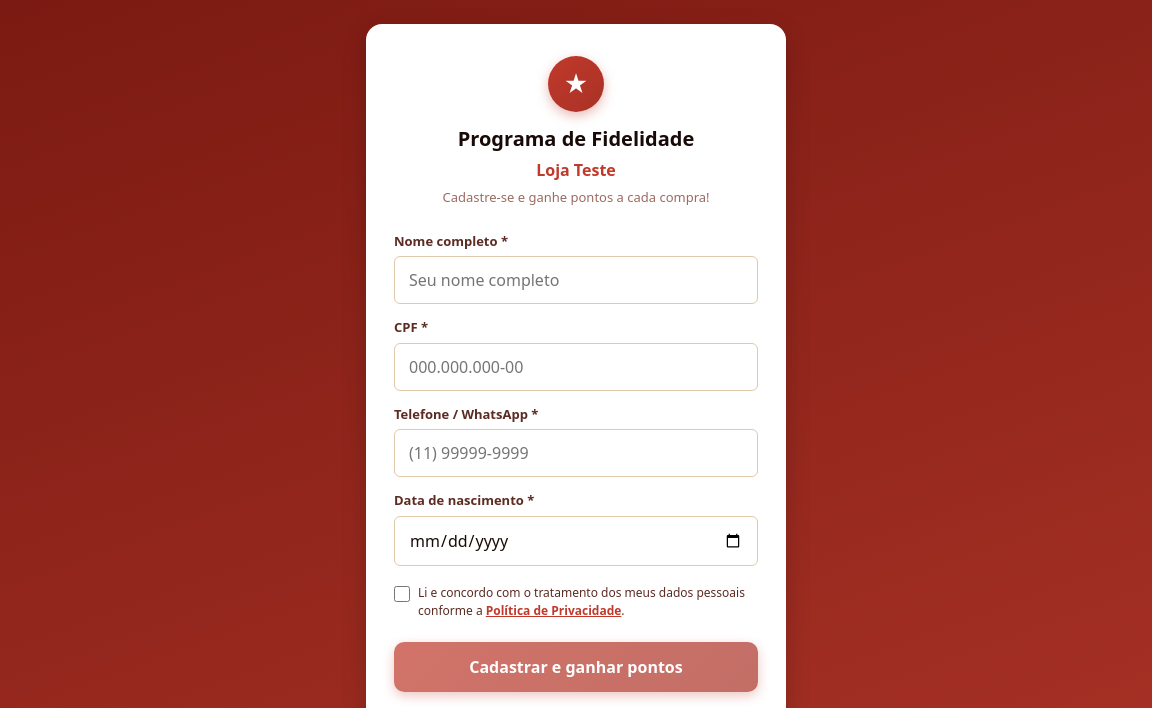
Test: CustomerRegisterView › keeps the submit button disabled until consent is given (LGPD Art. 7, I)
Type "João da Silva" into the field with placeholder "Seu nome completo".
click(576, 280); type("João da Silva")  # box [394,256,758,304]
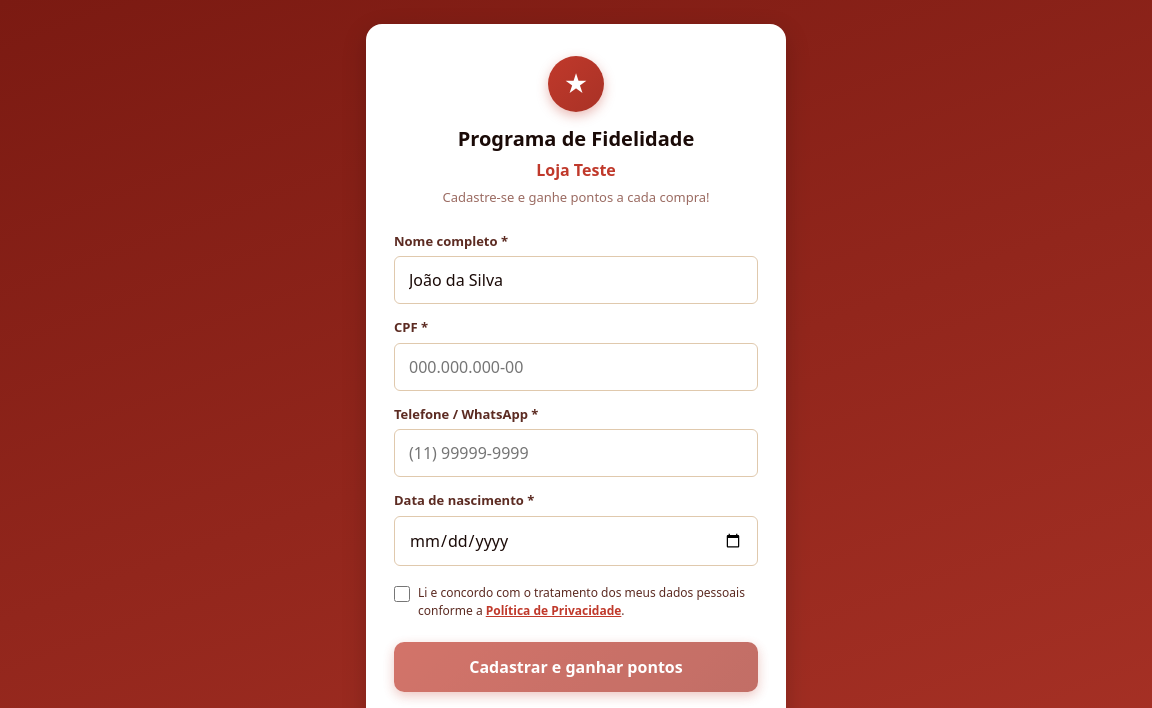
Type "52998224725" into the field with placeholder "000.000.000-00".
click(576, 366); type("52998224725")  # box [394,342,758,390]
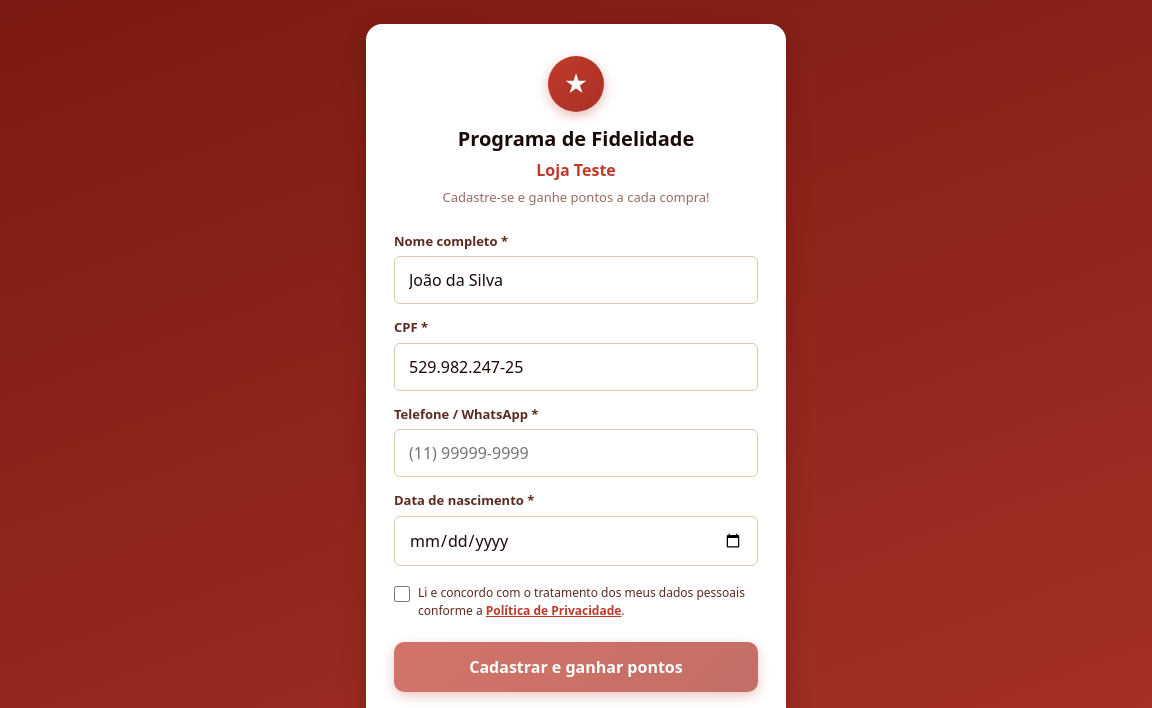
Type "11988887777" into the field with placeholder "(11) 99999-9999".
click(576, 453); type("11988887777")  # box [394,429,758,477]
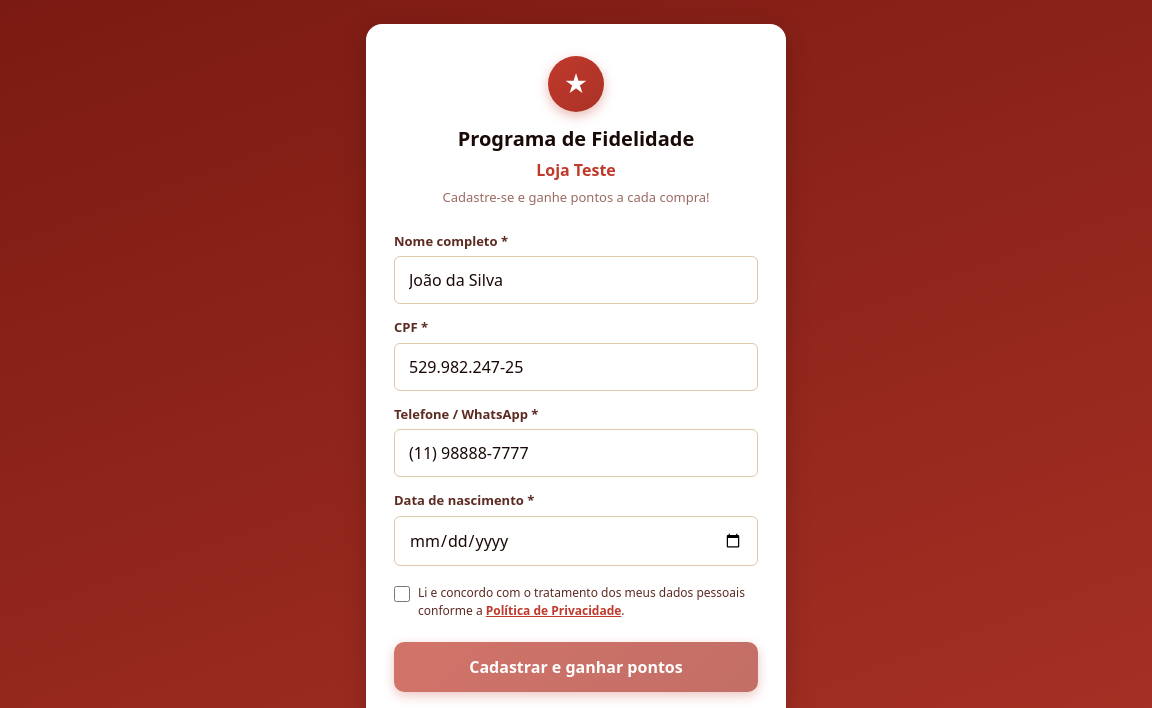
Type "1995-03-10" into the date field.
click(576, 540); type("1995-03-10")  # box [394,516,758,566]
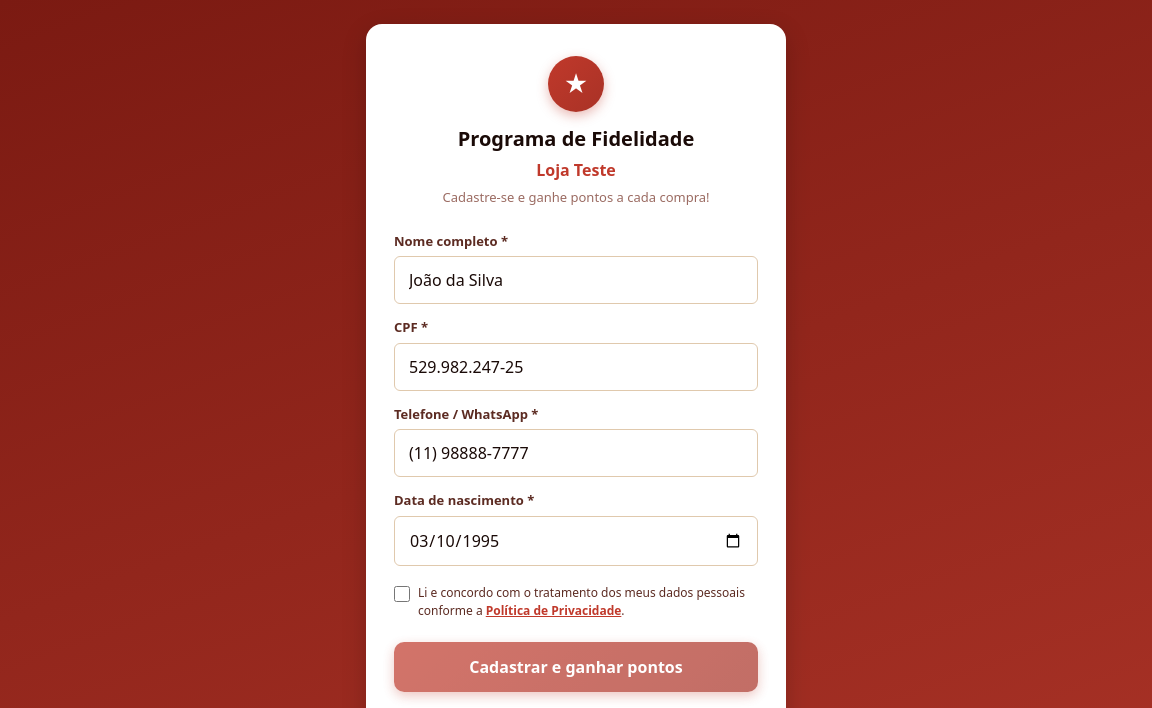
Expected: the submit button is disabled, [394,642,758,692]
Click the checkbox.
click(402, 594)  # box [394,586,410,602]
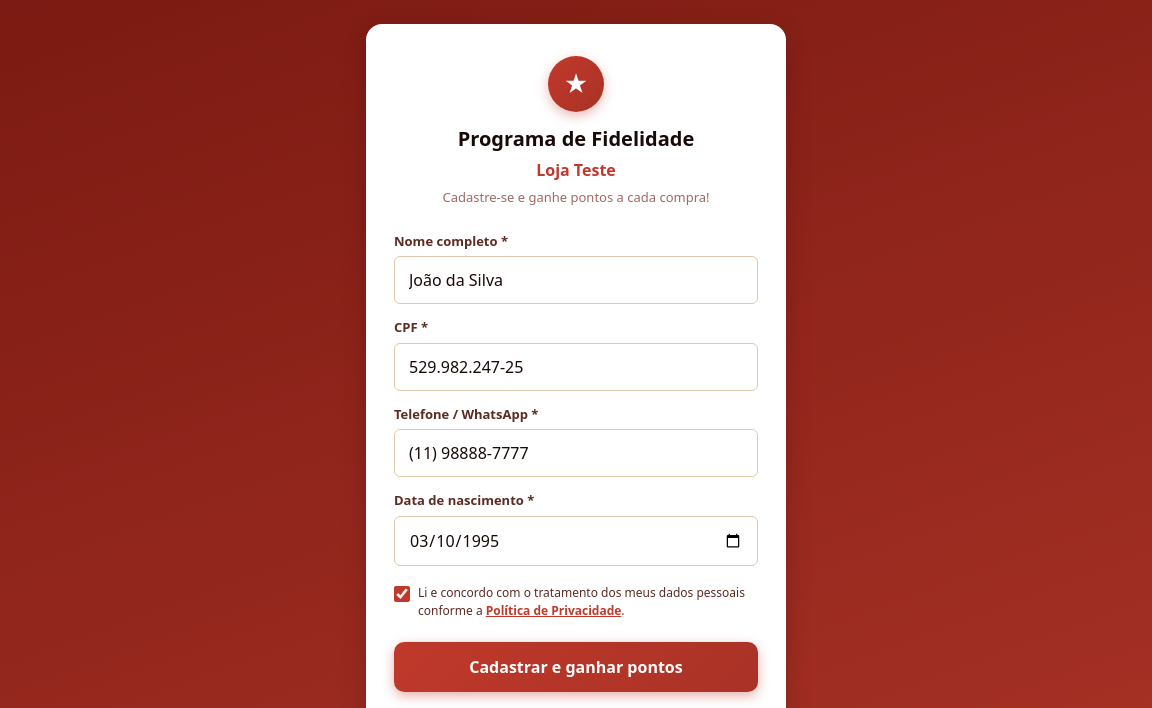
Result: the submit button is enabled at [394,642,758,692]
